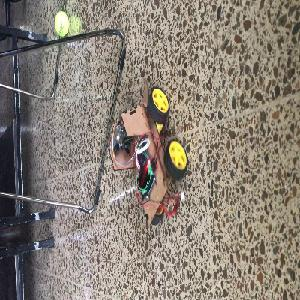Ball: (53, 11, 69, 36)
Robot: (107, 82, 187, 224)
